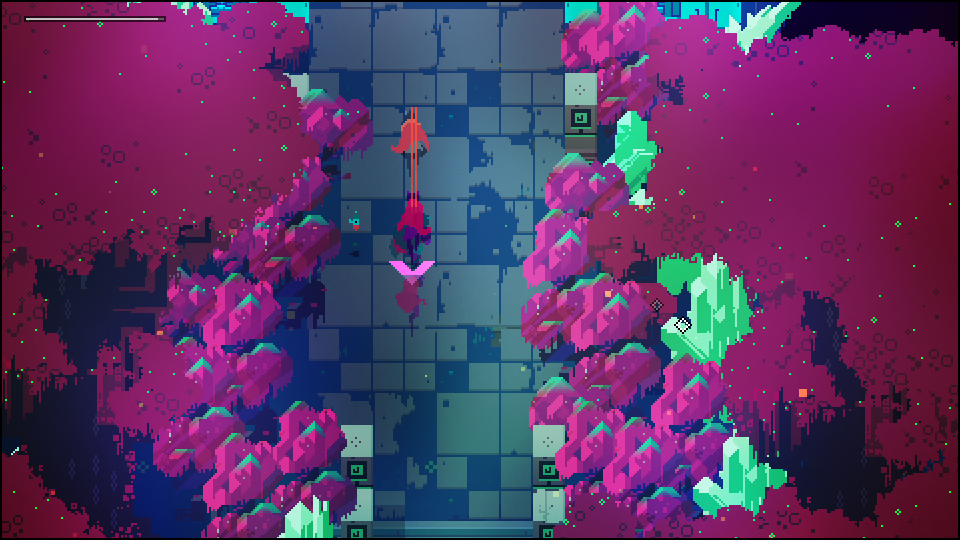player: (390, 106, 429, 171)
